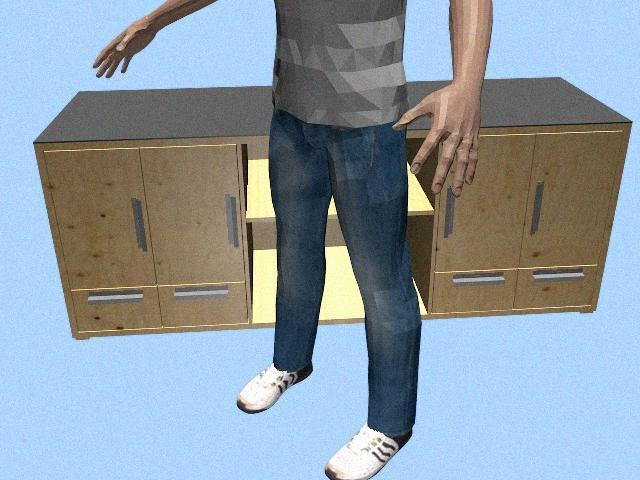cabinet_door: (149, 146, 242, 284), (57, 149, 149, 288), (440, 136, 528, 270), (528, 132, 610, 266), (160, 284, 248, 326), (74, 289, 160, 330), (434, 271, 517, 312), (516, 267, 594, 308)
handle: (534, 176, 553, 236), (171, 284, 235, 300), (448, 273, 512, 288), (443, 184, 459, 243), (223, 190, 238, 250), (128, 197, 143, 254), (83, 292, 146, 305)
